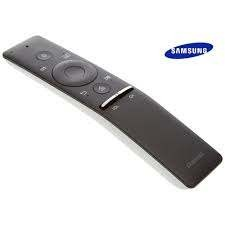remote control: (0, 32, 225, 200)
